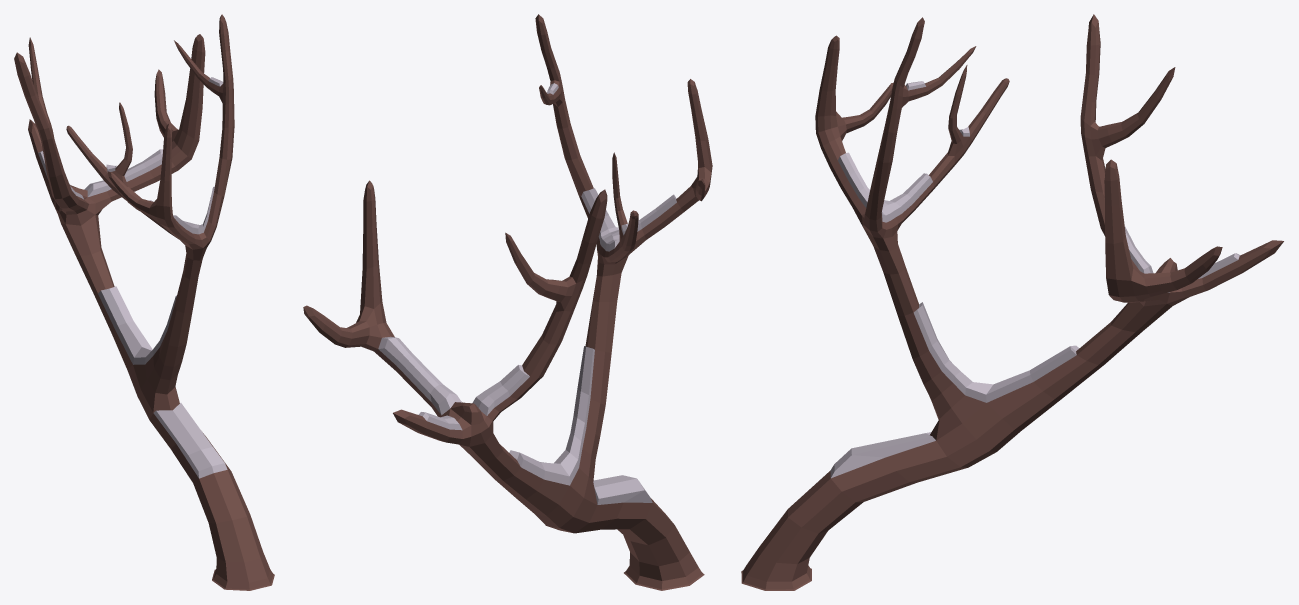
File: willow_dead_snow_2.glb
3 views of the same model, side by side, from view 1: azimuth 30°, elevation 25°; view 2: azimuth 150°, elevation 25°; view 3: azimuth 270°, elevation 25° (orthographic). The views are drawn at different scales.
Visible parts, largest first — view 1: Willow_Dead_Snow_2; view 2: Willow_Dead_Snow_2; view 3: Willow_Dead_Snow_2.
Boxes of the visible parts, left/top/right/bottom form: Willow_Dead_Snow_2: left=14, top=14, right=274, bottom=590; Willow_Dead_Snow_2: left=303, top=14, right=712, bottom=590; Willow_Dead_Snow_2: left=741, top=14, right=1283, bottom=590.
Size of the model in its own units: 2.82 by 6.81 by 5.75.
